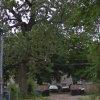Tree: (10, 5, 100, 73)
